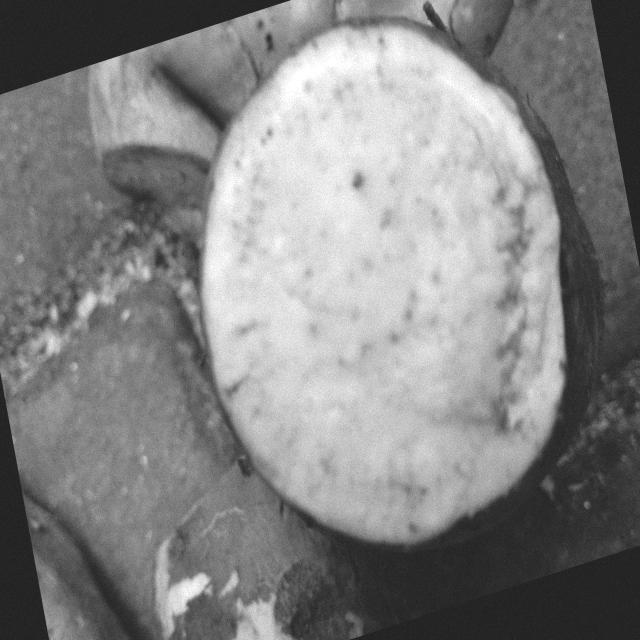Healthy Sweet Potato: (201, 25, 565, 543)
